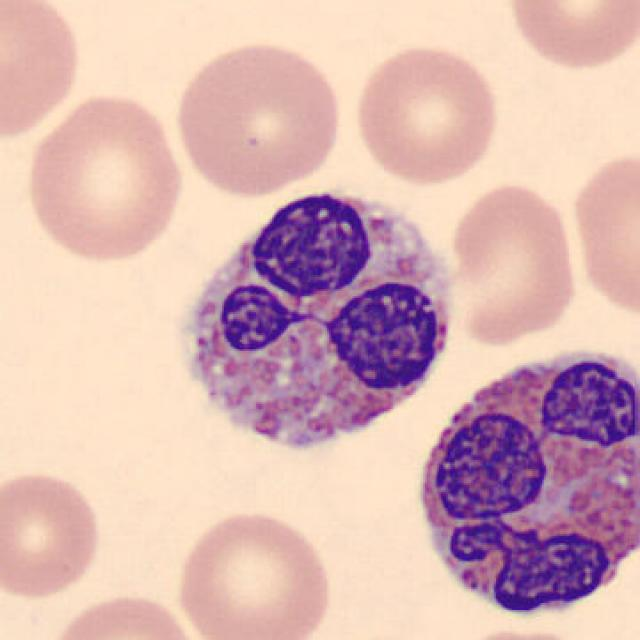Eosinophil: (163, 166, 470, 476), (402, 328, 640, 631)
RBC: (20, 88, 188, 266), (169, 35, 347, 201), (439, 176, 581, 349), (349, 38, 503, 188), (171, 506, 336, 640), (0, 465, 105, 603), (567, 144, 640, 321), (0, 0, 85, 144), (502, 0, 638, 74), (41, 589, 204, 640), (443, 624, 601, 640)
